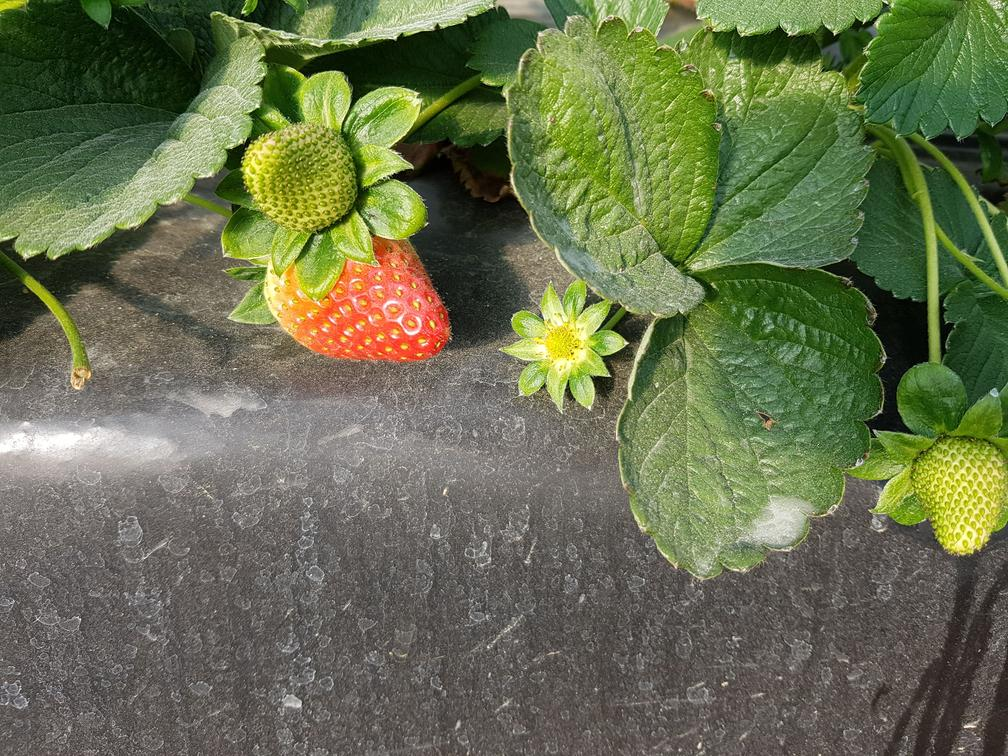Ripe: (259, 235, 468, 364)
Unripe: (240, 116, 370, 234), (914, 435, 1003, 555)
